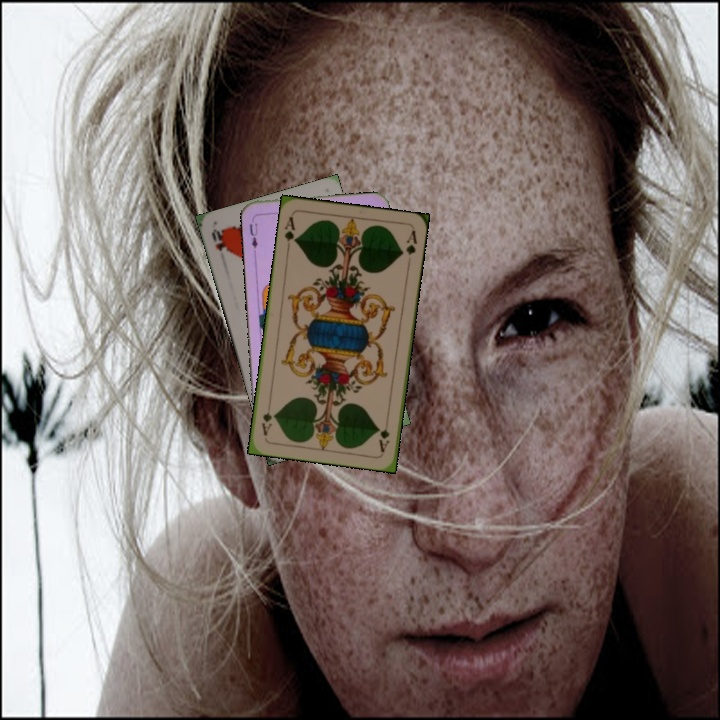EU: (245, 219, 260, 250)
GA: (280, 213, 299, 252), (375, 414, 392, 455)
HO: (207, 225, 229, 255)
